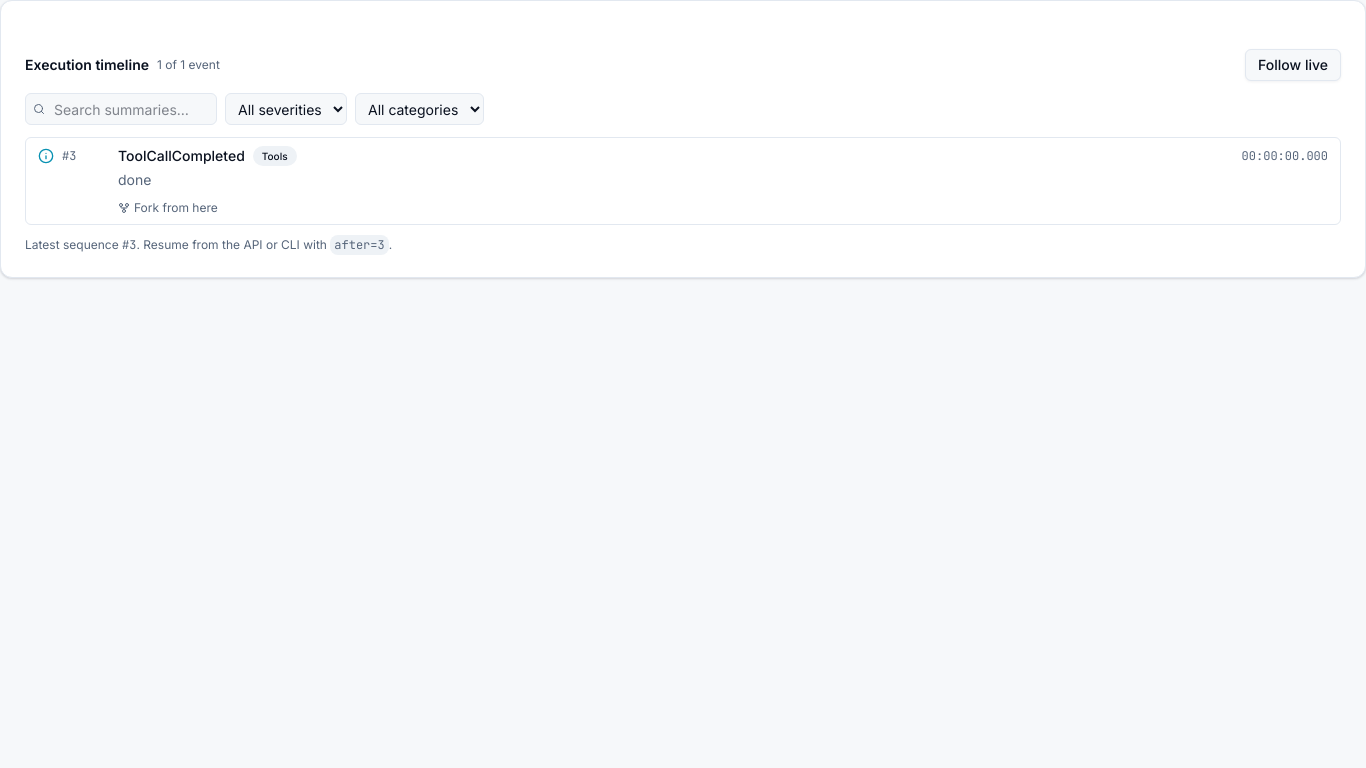
it: TaskEventTimeline › opens the fork dialog from an event row
Expected: the text "done" is shown, [118,171,151,188]
Click the button "Fork from here". click: [168, 208]
box: [118,200,218,216]
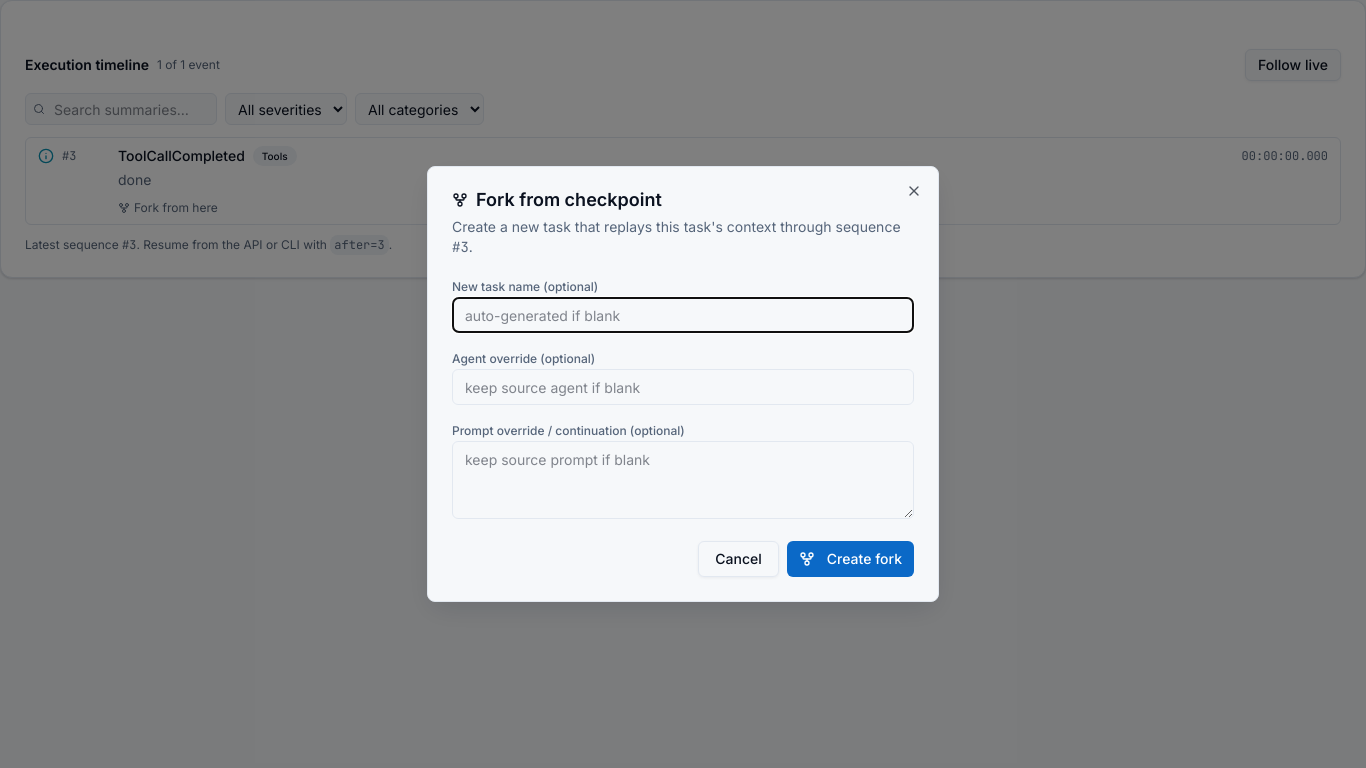
Now the heading "Fork from checkpoint" is shown, box [452,189,662,210]
Now the text "#3" is shown, box [452,238,469,256]
